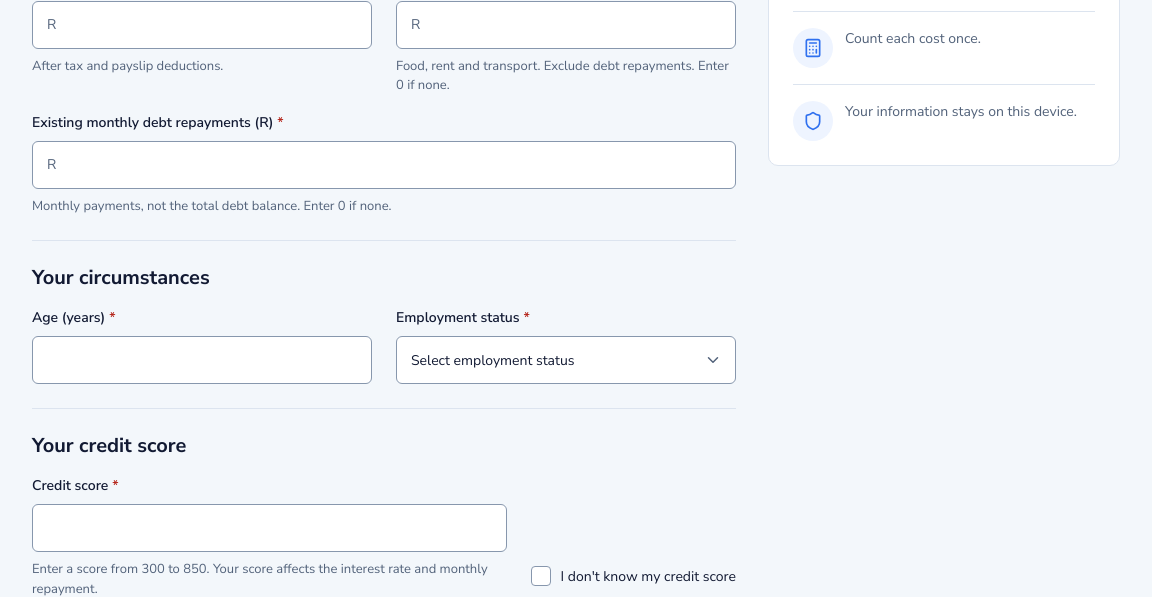
it: YourBudgetScreen › clears income-source fields when switching away from unemployed
(page scrolled)
Select "Unemployed" in the dropdown labelled "Employment status *" at coordinates (566, 360), box [396,336,736,384]
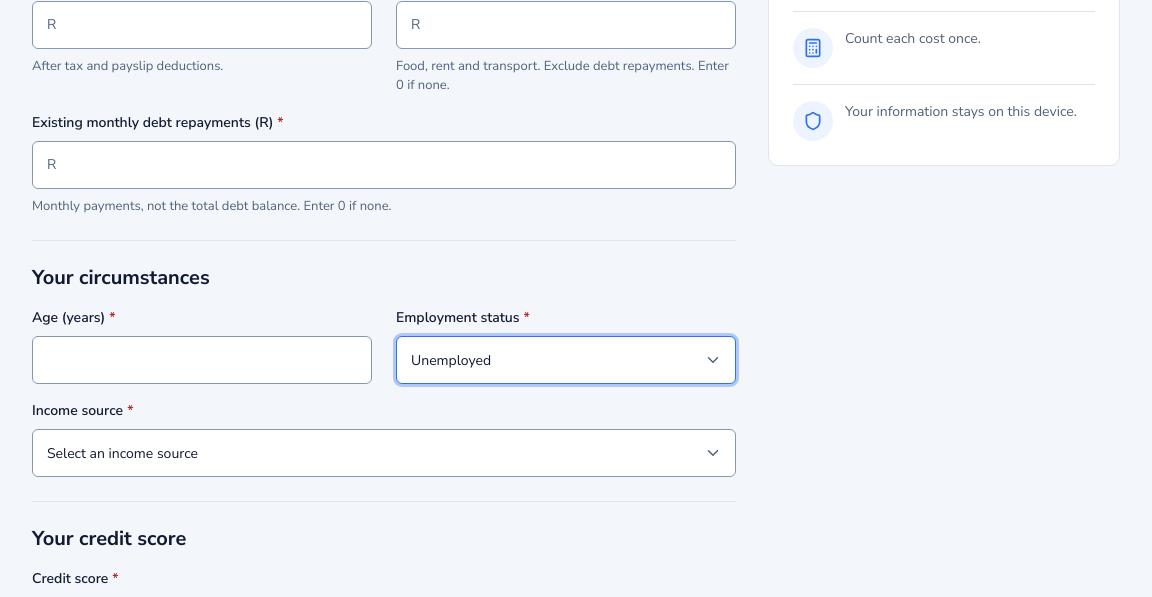
Select "Rental income" in the dropdown labelled "Income source *" at coordinates (384, 453), box [32,429,736,477]
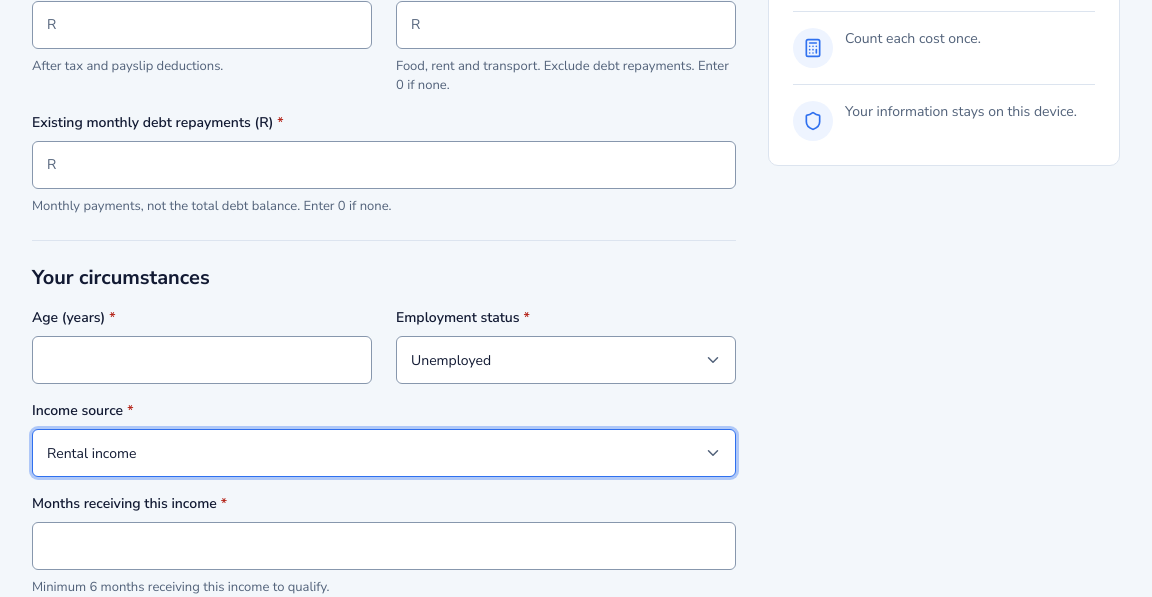
Now the field labelled "Months receiving this income *" is shown, box [32,522,736,570]
Select "Employed" in the dropdown labelled "Employment status *" at coordinates (566, 360), box [396,336,736,384]
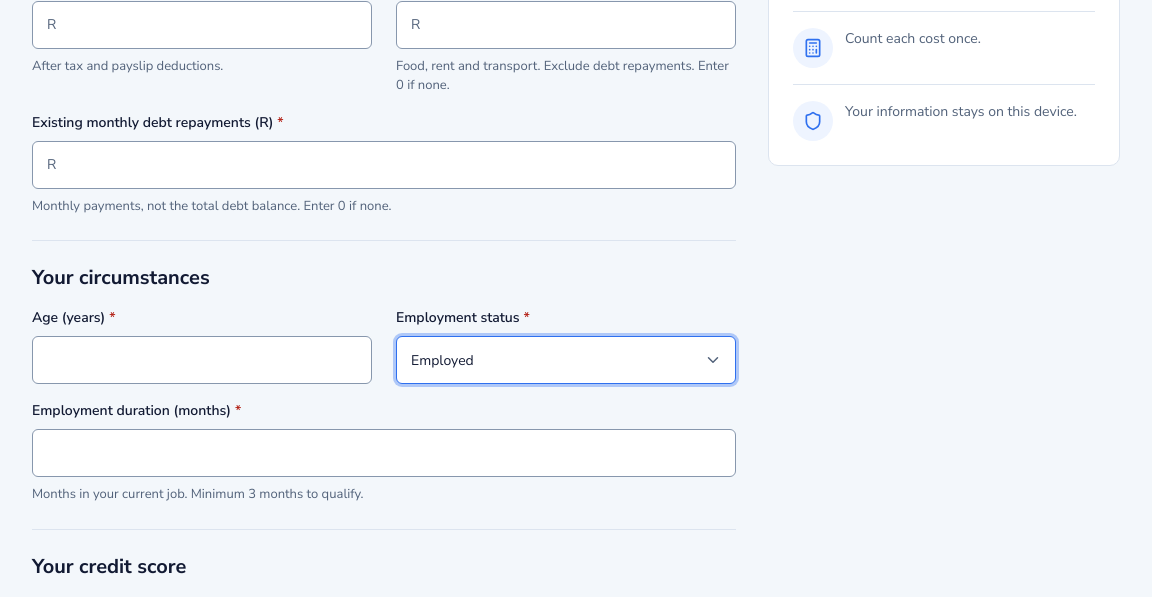
Now the label labelled "Income source" is gone
Now the label "Months receiving this income" is gone
